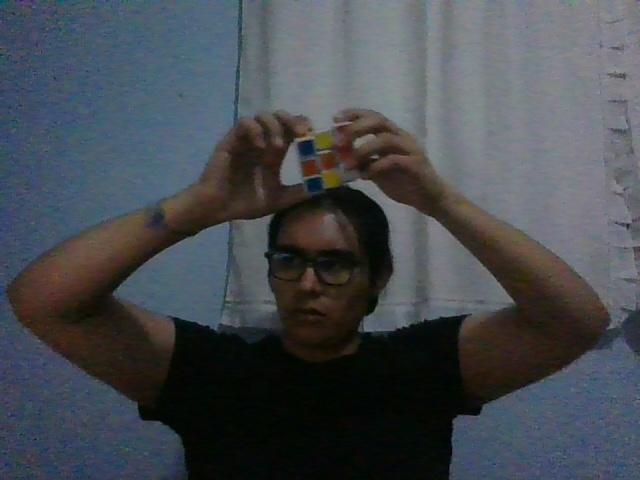rubik: (294, 121, 360, 197)
